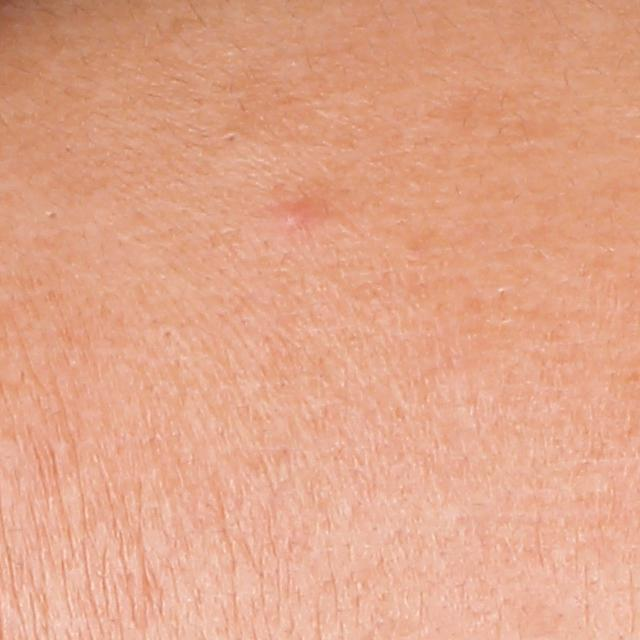comedo: (157, 325, 178, 340), (223, 133, 237, 146), (46, 209, 58, 222)
papule: (271, 196, 306, 237)
